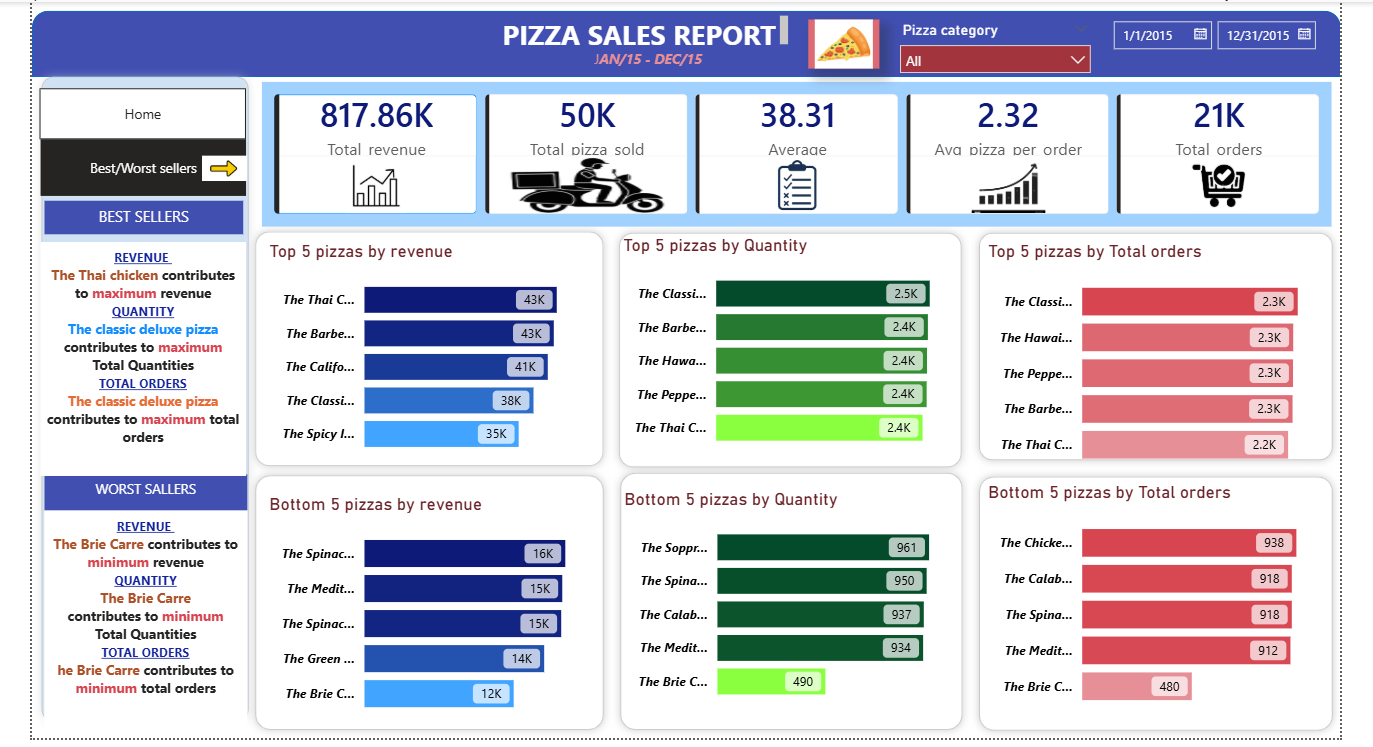

The page's visual inventory and layout, read from the dashboard file:
{"tool":"powerbi","page":{"name":"Best/Worst sellers","canvas":[1280,720],"ordinal":1},"visuals":[{"type":"cardVisual","fields":{"Data":["pizza_sales.Total_revenue","pizza_sales.Total_pizza_sold","pizza_sales.Average","pizza_sales.Avg_pizza_per_order","pizza_sales.Total_orders"]},"box":[220.1,73.4,1060.2,151.6],"z":0},{"type":"shape","box":[0,8.6,1280.3,64.8],"z":1000},{"type":"textbox","box":[452.4,8.6,292.3,41.6],"z":2000},{"type":"textbox","box":[539.3,41.6,127.2,29.3],"z":3000},{"type":"image","box":[759.4,17.1,69.7,47.7],"z":4000},{"type":"shape","box":[209.9,216.8,356.8,245.6],"z":5000},{"type":"shape","box":[1.2,64.8,218.9,646.9],"z":6000},{"type":"textbox","box":[12.2,462.2,198.1,35.5],"z":7000},{"type":"textbox","box":[8.6,234.8,200.5,228.7],"z":8000},{"type":"textbox","box":[12.2,497.7,198.1,222.6],"z":9000},{"type":"textbox","box":[12.2,194.4,194.4,33],"z":10000},{"type":"slicer","fields":{"Values":["pizza_sales.pizza_category"]},"box":[838.9,13.5,206.7,56.3],"z":11000},{"type":"slicer","fields":{"Values":["pizza_sales.order_date"]},"box":[1045.6,8.2,234.6,61.7],"z":12000},{"type":"shape","box":[566.7,218.2,351.3,245.6],"z":13000},{"type":"shape","box":[918,218.2,362.3,238.8],"z":14000},{"type":"shape","box":[210.3,454.9,357.1,265.4],"z":15000},{"type":"shape","box":[567.4,452.4,351,267.8],"z":16000},{"type":"shape","box":[918,455.6,362.3,264.8],"z":17000},{"type":"barChart","title":"Top 5 pizzas by revenue","fields":{"Y":["pizza_sales.Total_revenue"],"Category":["pizza_sales.pizza_name"]},"box":[227.8,233.3,338.9,220.9],"z":18000},{"type":"barChart","title":"Bottom 5 pizzas by revenue","fields":{"Category":["pizza_sales.pizza_name"],"Y":["pizza_sales.Total_revenue"]},"box":[227.8,480.3,338.9,229.2],"z":19000},{"type":"barChart","title":"Top 5 pizzas by Quantity","fields":{"Y":["pizza_sales.Total_pizza_sold"],"Category":["pizza_sales.pizza_name"]},"box":[573.6,227.8,333.4,220.9],"z":20000},{"type":"barChart","title":"Bottom 5 pizzas by Quantity","fields":{"Y":["pizza_sales.Total_pizza_sold"],"Category":["pizza_sales.pizza_name"]},"box":[575,476.2,333.4,220.9],"z":21000},{"type":"barChart","title":"Top 5 pizzas by Total orders","fields":{"Category":["pizza_sales.pizza_name"],"Y":["pizza_sales.Total_orders"]},"box":[930.4,233.3,337.6,233.3],"z":22000},{"type":"barChart","title":"Bottom 5 pizzas by Total orders","fields":{"Category":["pizza_sales.pizza_name"],"Y":["pizza_sales.Total_orders"]},"box":[930.6,469.6,337.5,233.6],"z":23000},{"type":"pageNavigator","box":[7.3,84.4,203,50.1],"z":24000},{"type":"pageNavigator","box":[8.6,134.5,201.8,55],"z":25000},{"type":"image","box":[166.3,145.5,44,34.2],"z":26000}]}

Visuals, with their boxes on the page's 1280x720 design canvas (x1, y1, x2, y2). These are canvas units, not pixel positions in the 1373x747 screenshot, which may show the page scaled, cropped or inside an application window:
cardVisual - pizza_sales.Total_revenue x pizza_sales.Total_pizza_sold: [220,73,1280,225]
shape: [0,9,1280,73]
textbox: [452,9,745,50]
textbox: [539,42,666,71]
image: [759,17,829,65]
shape: [210,217,567,462]
shape: [1,65,220,712]
textbox: [12,462,210,498]
textbox: [9,235,209,464]
textbox: [12,498,210,720]
textbox: [12,194,207,227]
slicer - pizza_sales.pizza_category: [839,14,1046,70]
slicer - pizza_sales.order_date: [1046,8,1280,70]
shape: [567,218,918,464]
shape: [918,218,1280,457]
shape: [210,455,567,720]
shape: [567,452,918,720]
shape: [918,456,1280,720]
"Top 5 pizzas by revenue" barChart: [228,233,567,454]
"Bottom 5 pizzas by revenue" barChart: [228,480,567,710]
"Top 5 pizzas by Quantity" barChart: [574,228,907,449]
"Bottom 5 pizzas by Quantity" barChart: [575,476,908,697]
"Top 5 pizzas by Total orders" barChart: [930,233,1268,467]
"Bottom 5 pizzas by Total orders" barChart: [931,470,1268,703]
pageNavigator: [7,84,210,134]
pageNavigator: [9,134,210,190]
image: [166,146,210,180]
